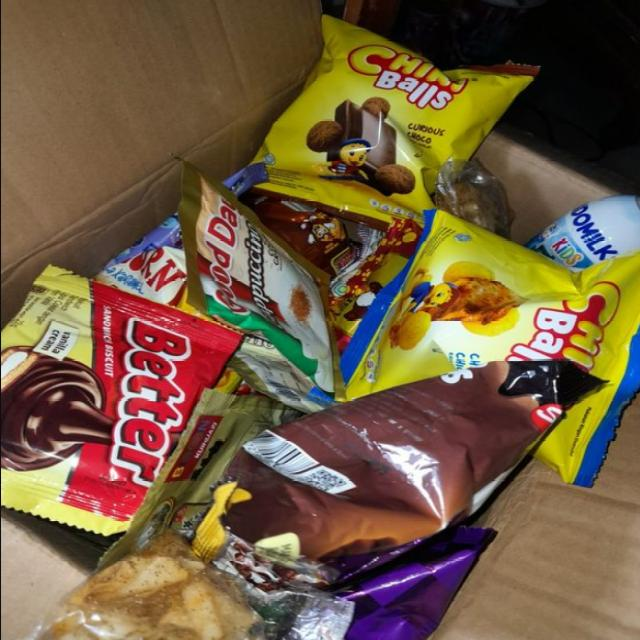KemasanPlastik: (337, 192, 633, 474), (3, 260, 242, 537), (249, 9, 536, 227), (160, 153, 350, 394)
